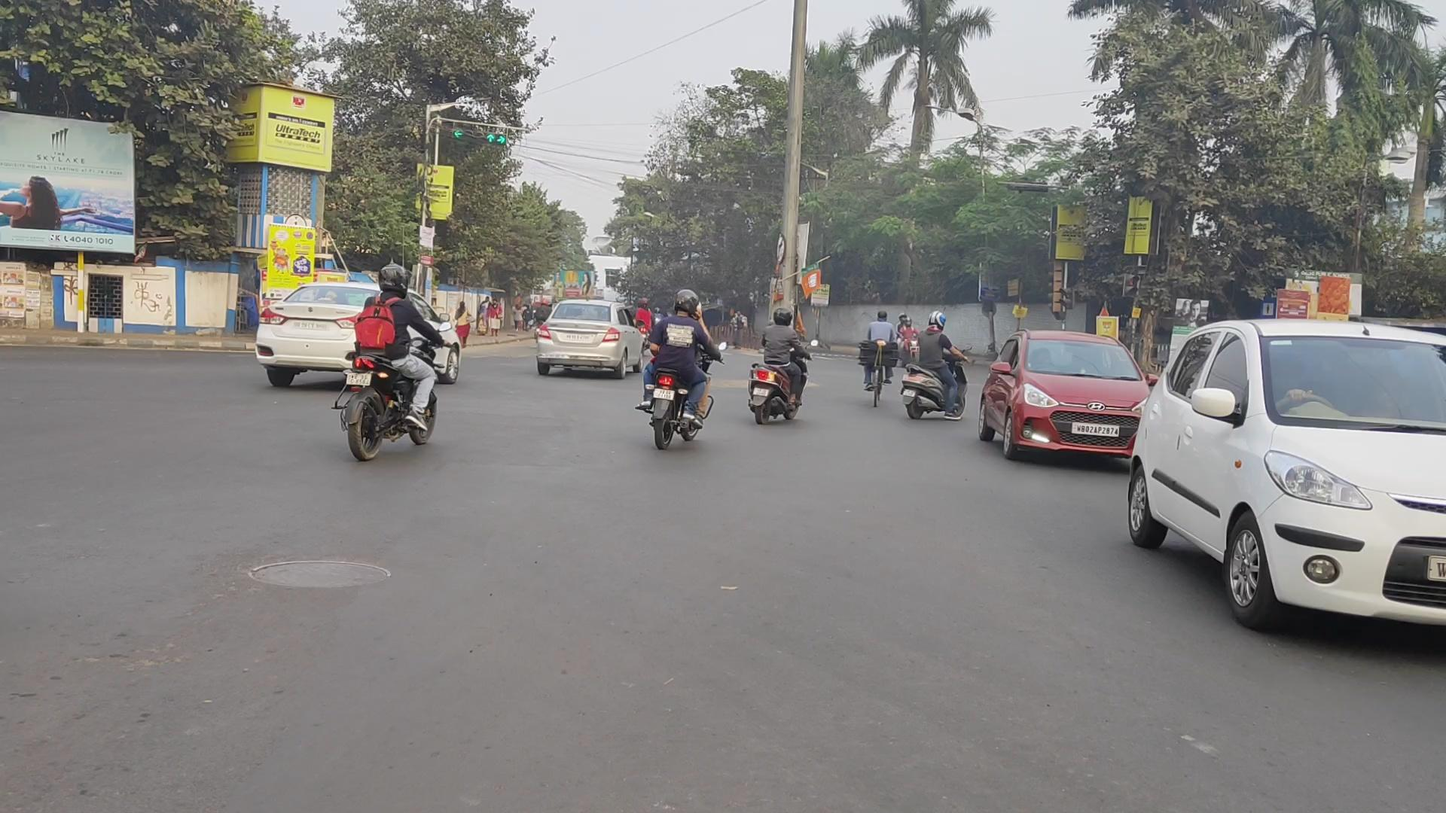bike: (334, 262, 452, 461), (634, 288, 728, 452), (748, 307, 818, 425), (900, 311, 972, 421), (858, 310, 899, 409)
car: (1127, 318, 1446, 656), (978, 328, 1158, 470), (255, 281, 461, 387), (536, 299, 645, 379)
